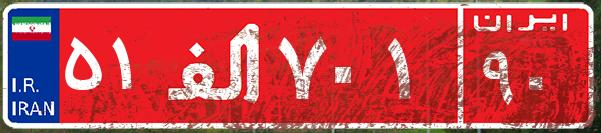0: (330, 28, 385, 110), (525, 38, 570, 115)
1: (385, 28, 445, 110), (110, 28, 158, 105)
5: (57, 26, 110, 107)
7: (273, 28, 330, 110)
9: (475, 38, 525, 113)
الف: (158, 15, 273, 115)
